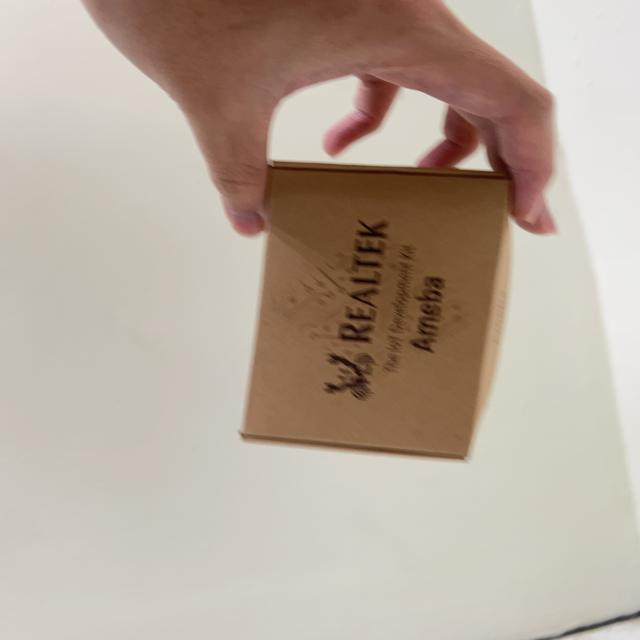box: (244, 142, 534, 470)
